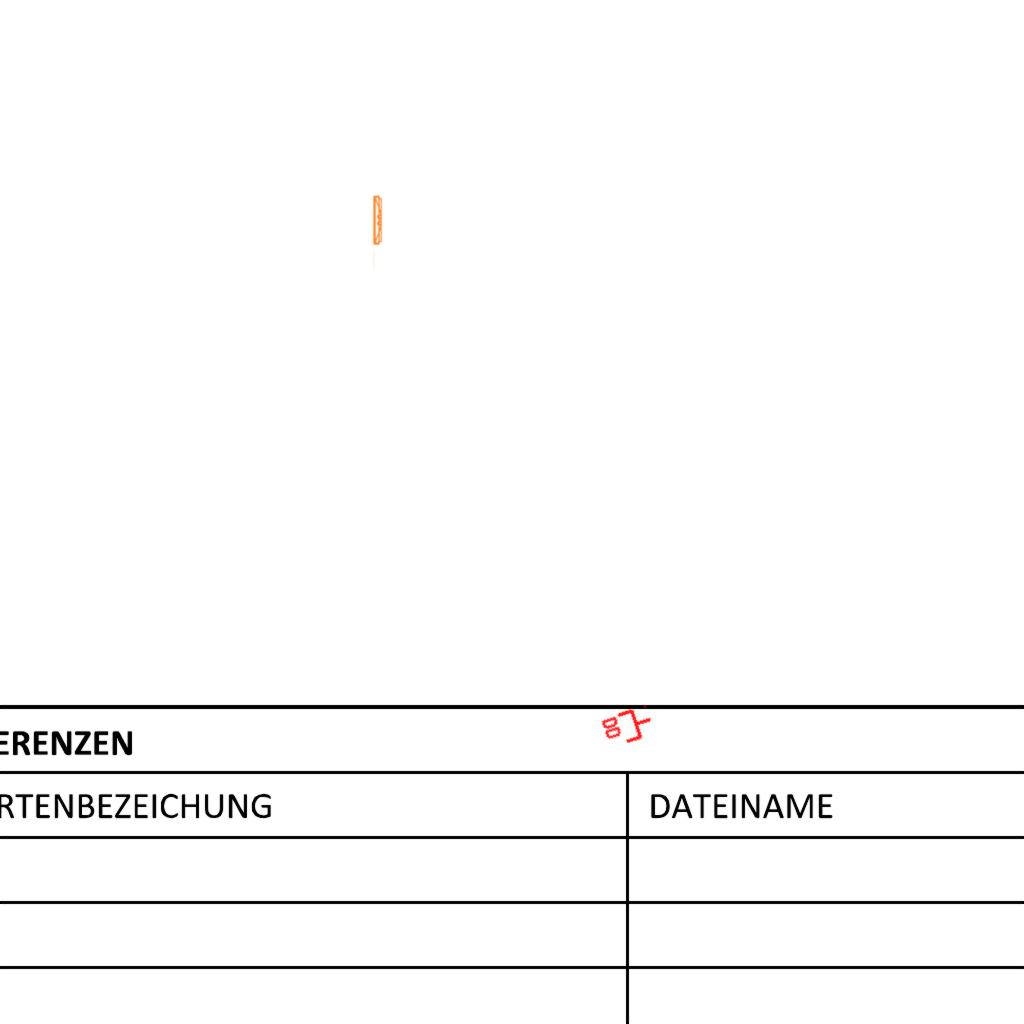Datenanschluss_zweifach: (598, 703, 658, 752)
Sicherheitsleuchte_Wandeinbau: (372, 193, 384, 272)
